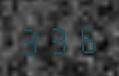six: (73, 19, 99, 54)
three: (18, 21, 44, 56), (46, 20, 72, 55)
